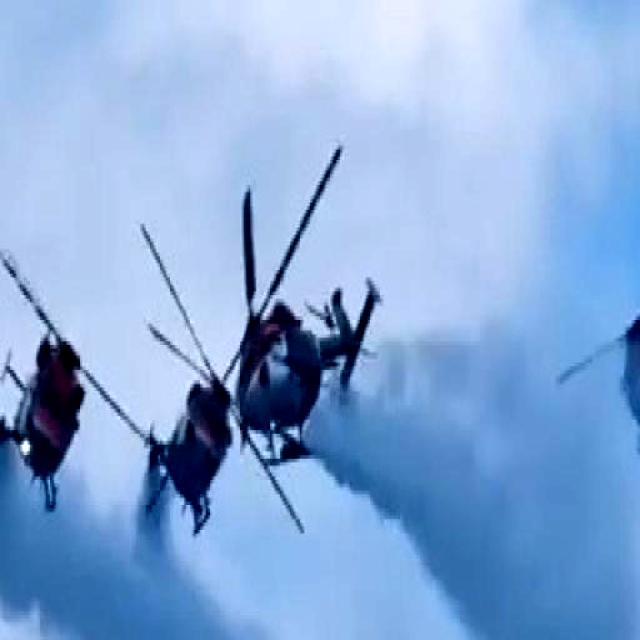drone: (225, 190, 390, 461), (0, 230, 132, 526), (131, 234, 242, 538), (562, 186, 640, 468)
